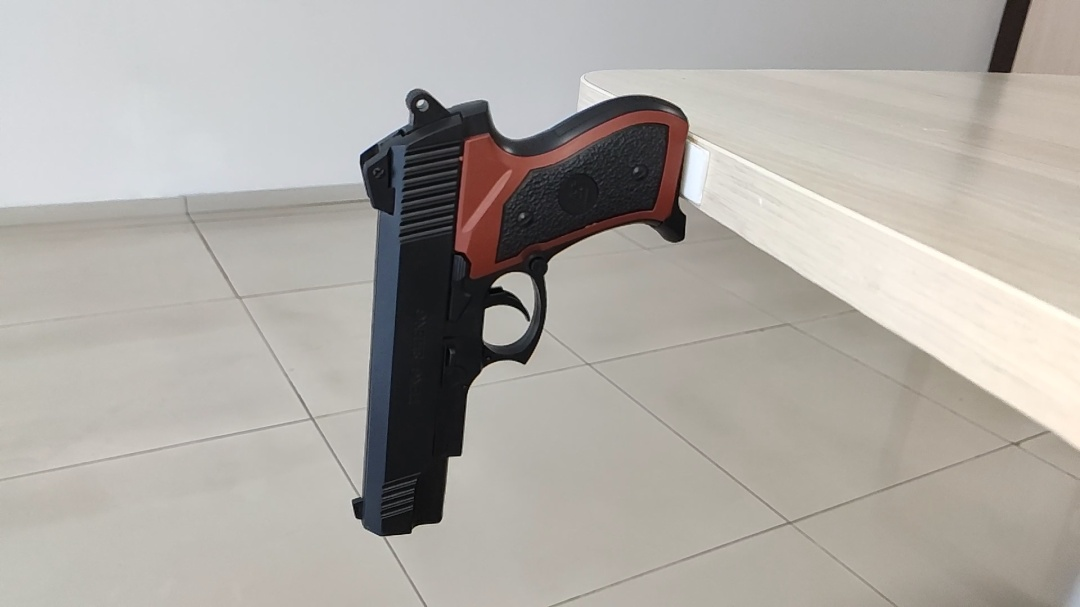gun: (400, 4, 711, 271)
